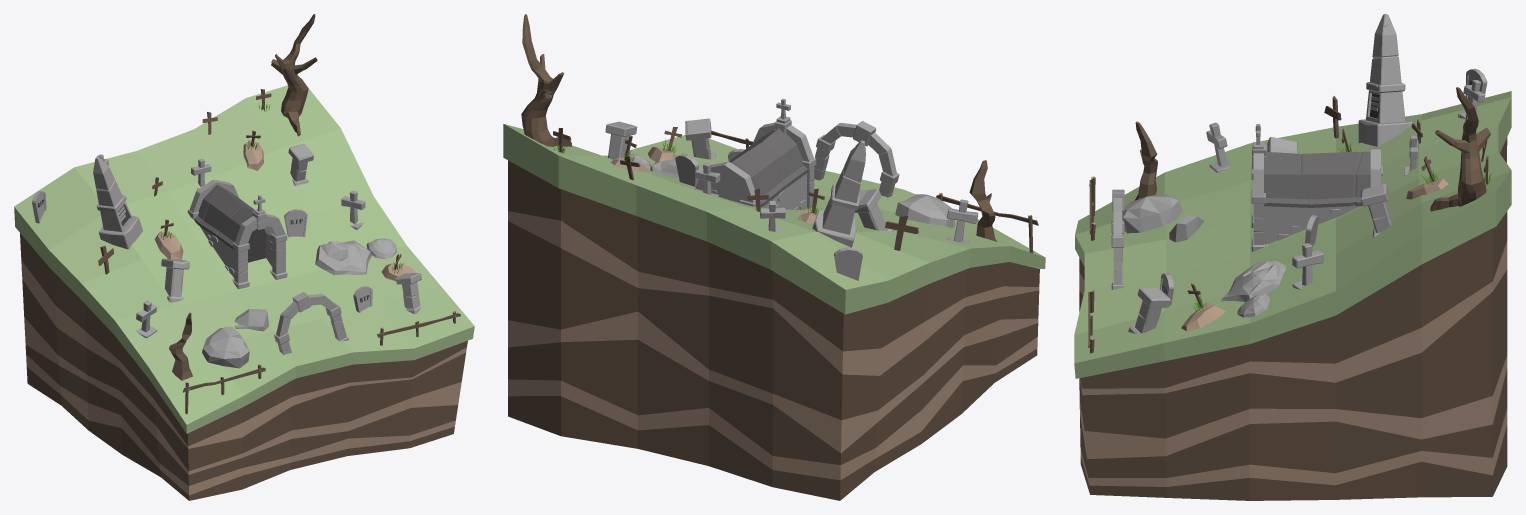
File: Island_1.fbx
3 views of the same model, side by side, from view 1: azimuth 30°, elevation 25°; view 2: azimuth 150°, elevation 25°; view 3: azimuth 270°, elevation 25° (orthographic). The views are drawn at different scales.
Visible parts, largest first — view 1: Island_1_Base, Island_1, Island_1_Dead_Tree; view 2: Island_1_Base, Island_1, Island_1_Dead_Tree; view 3: Island_1_Base, Island_1, Island_1_Dead_Tree.
Part boxes in pixels (left/top/right/bottom): Island_1_Base: left=14, top=85, right=474, bottom=500; Island_1: left=32, top=14, right=460, bottom=414; Island_1_Dead_Tree: left=169, top=312, right=192, bottom=380; Island_1_Base: left=503, top=124, right=1045, bottom=500; Island_1: left=521, top=14, right=1038, bottom=280; Island_1_Dead_Tree: left=969, top=160, right=996, bottom=241; Island_1_Base: left=1074, top=91, right=1511, bottom=500; Island_1: left=1088, top=14, right=1491, bottom=353; Island_1_Dead_Tree: left=1135, top=121, right=1157, bottom=200.
Size of the model in its own units: 2040 by 2040 by 2107.
